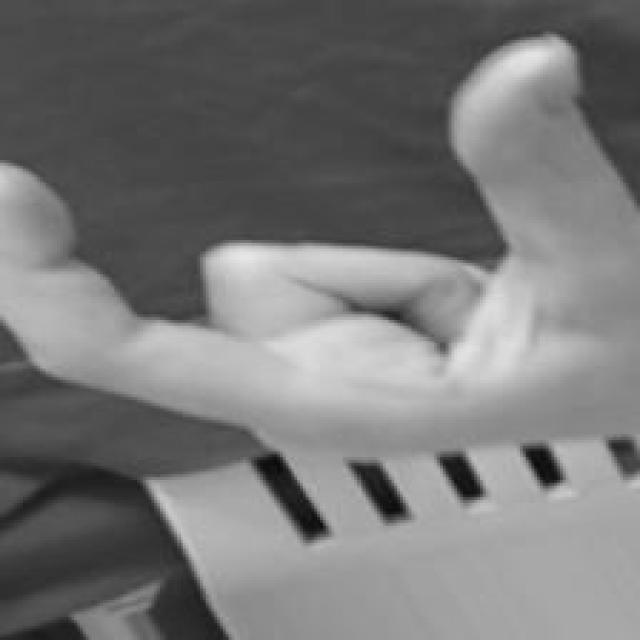U: (0, 28, 640, 464)
